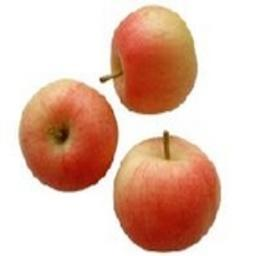apple: (114, 135, 222, 253), (18, 80, 118, 191), (108, 4, 199, 118)
